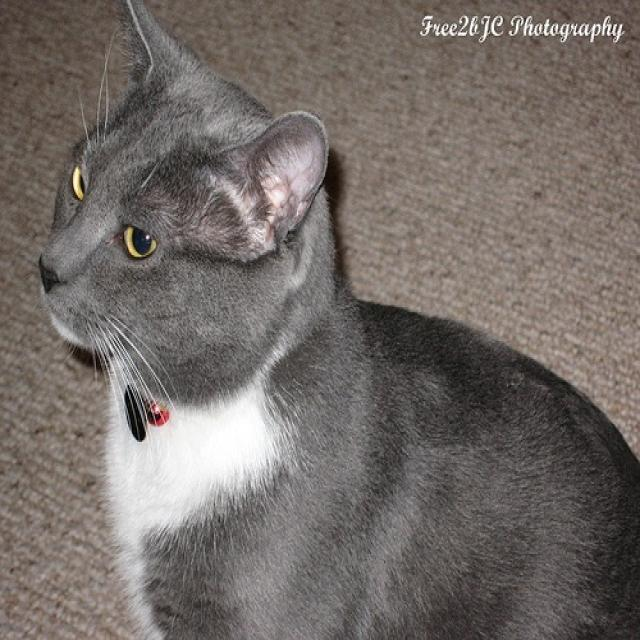cat: (34, 0, 638, 638)
